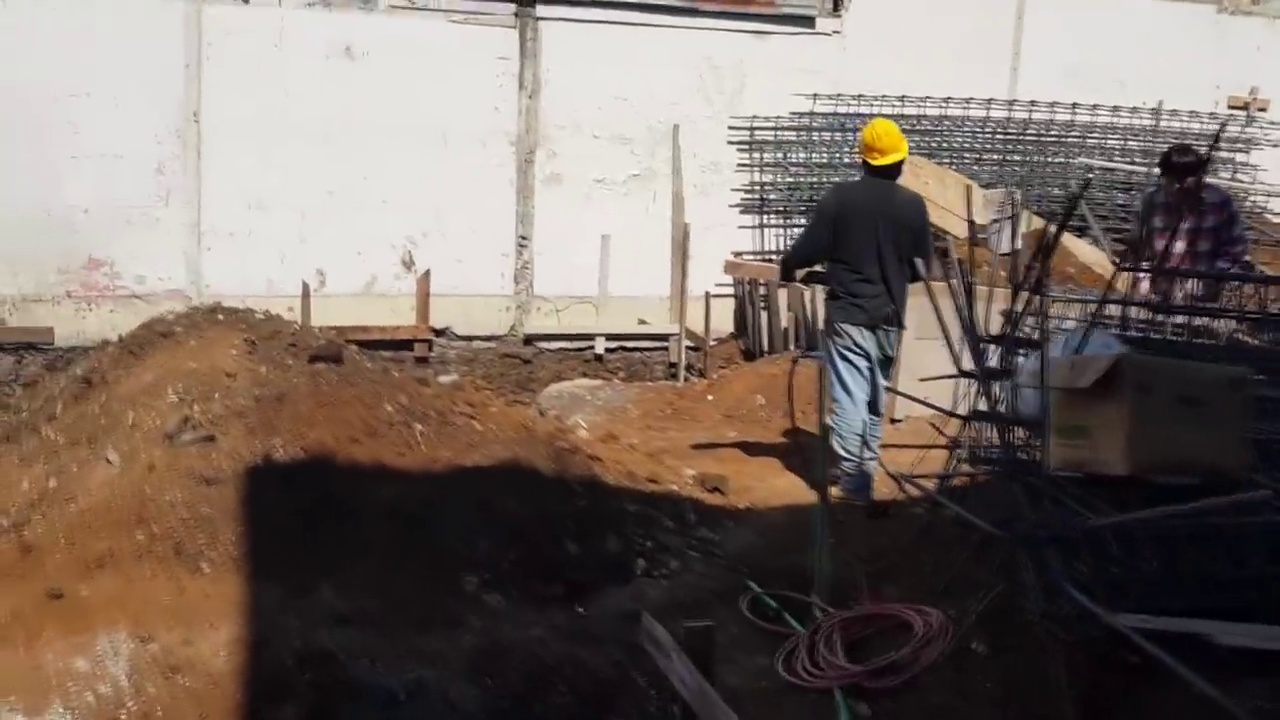helmet: (859, 115, 913, 169)
helmet-off: (1165, 141, 1209, 196)
person: (779, 99, 944, 516), (1134, 137, 1238, 338)
